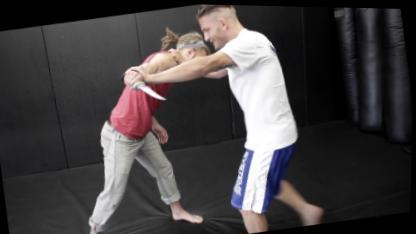knife: (117, 62, 169, 108)
